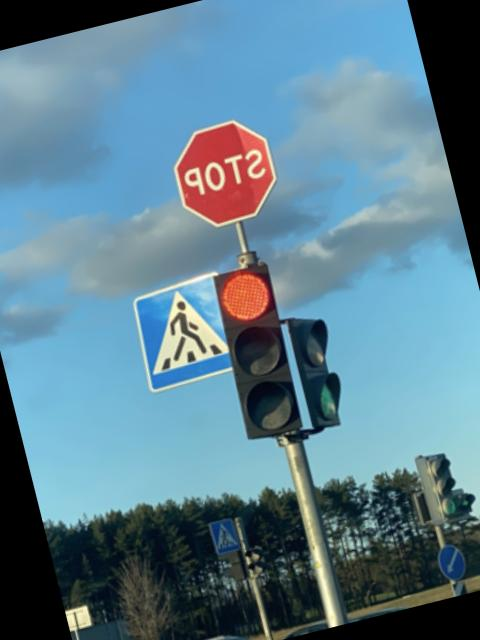crosswalk-sign: (127, 272, 241, 395), (205, 516, 247, 559)
